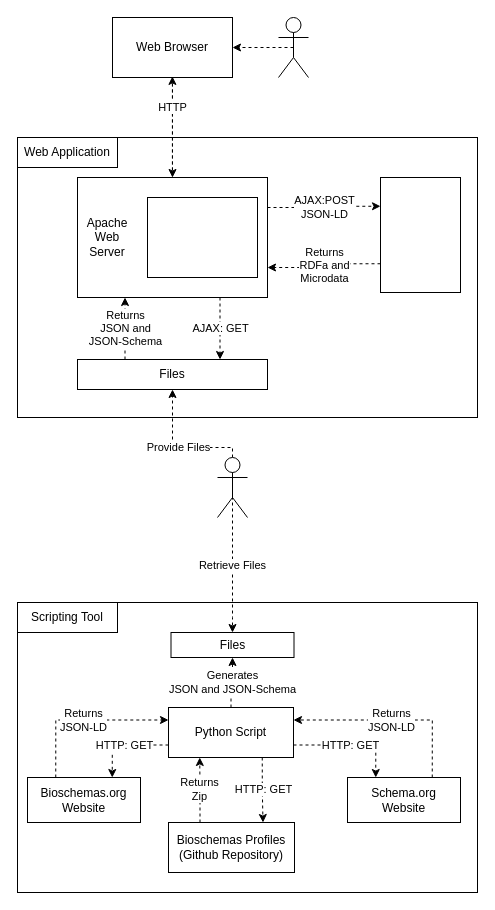
This 495x910 diagram has some shape labels left out. Each missing label, with the centre of its shape:
"Bioschemas Profile Markup Generator Web Application" goes at (x=202, y=237).
"RDF Translator API" goes at (x=420, y=234).
"User" goes at (x=293, y=47).
"Webmaster" goes at (x=232, y=487).
